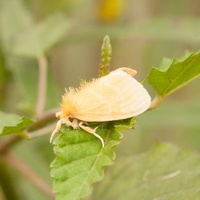insect: (60, 67, 150, 121)
